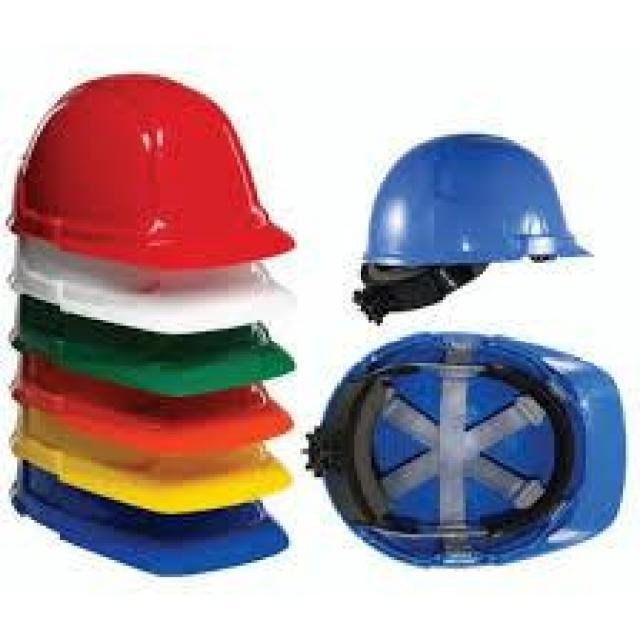safety_helmet: (0, 65, 305, 285), (348, 128, 608, 280)
